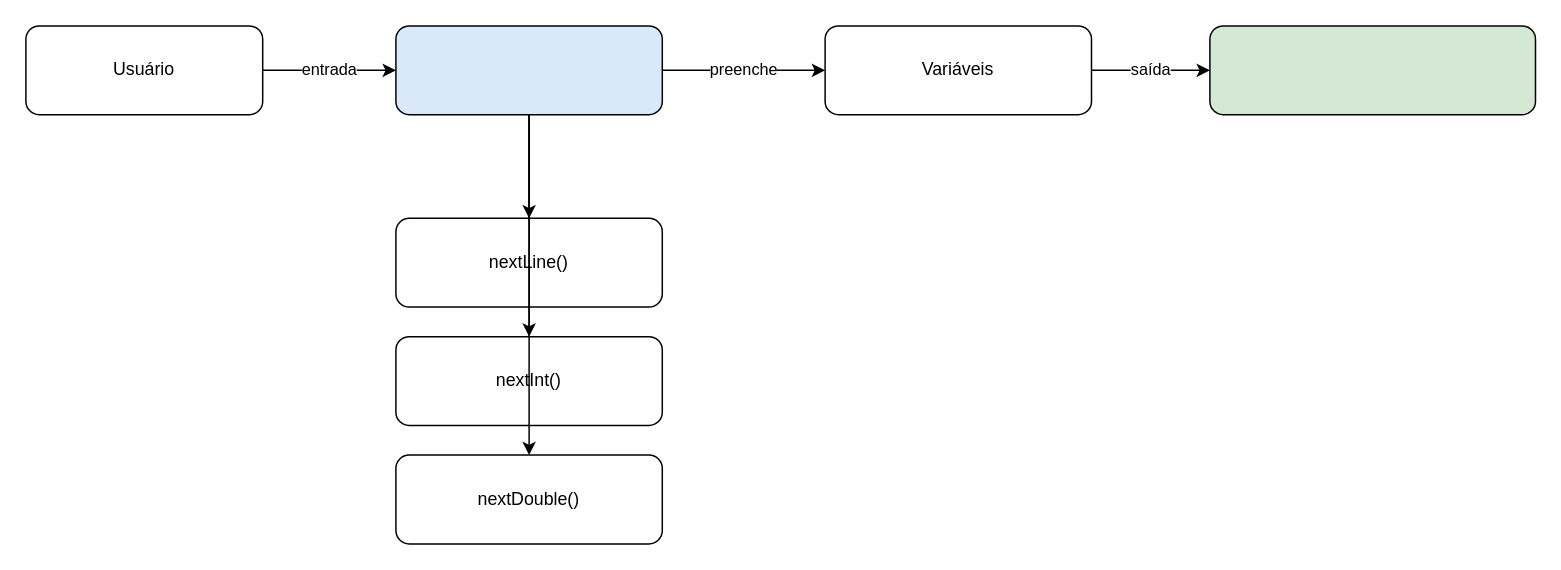
The diagram is 1561 pixels wide and 570 high, and some of its shapes have lost their labels. Each missing label, with the centre of its shape:
print / println / printf: (1372,69)
Scanner: (528,69)
